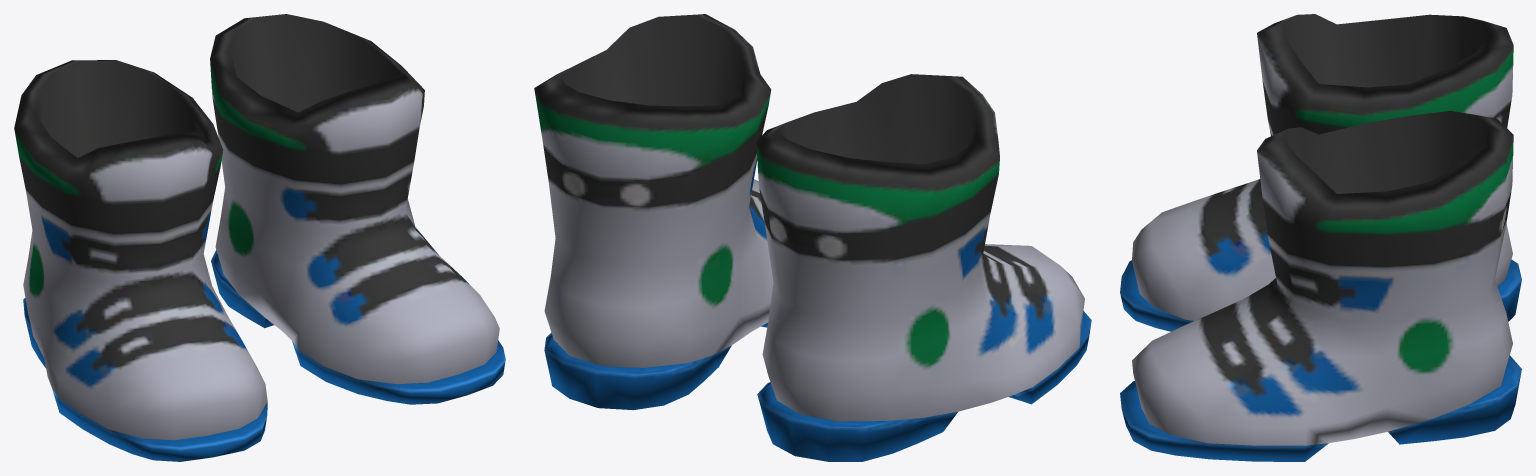
File: ShoesKneeSki0.glb
3 views of the same model, side by side, from view 1: azimuth 30°, elevation 25°; view 2: azimuth 150°, elevation 25°; view 3: azimuth 270°, elevation 25° (orthographic). The views are drawn at different scales.
Visible parts, largest first — view 1: Body__mShoes; view 2: Body__mShoes; view 3: Body__mShoes.
Part boxes in pixels (bbox=[...]): Body__mShoes: bbox=[14, 14, 505, 461]; Body__mShoes: bbox=[534, 14, 1091, 461]; Body__mShoes: bbox=[1120, 14, 1521, 461].
Size of the model in its own units: 3.4 by 2.15 by 2.8.
1 material, 1 textured.
